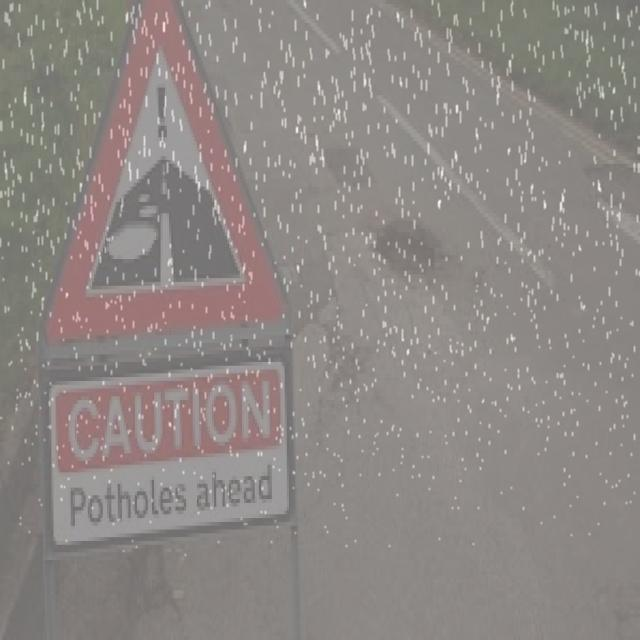Pothole: (362, 214, 441, 289), (291, 311, 330, 448), (302, 137, 374, 194), (571, 161, 640, 214)
